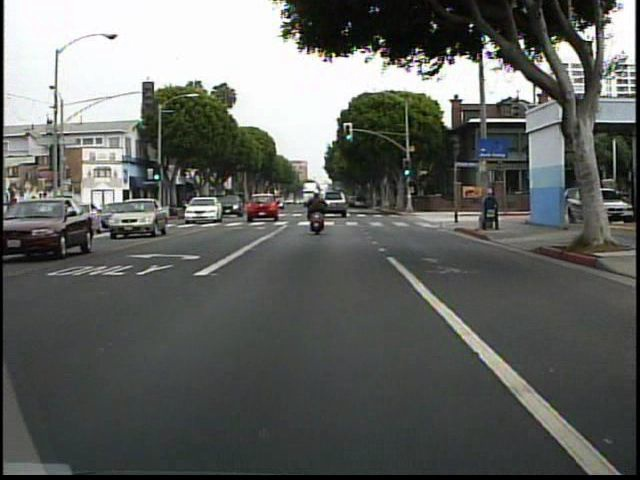person: (304, 185, 334, 241)
